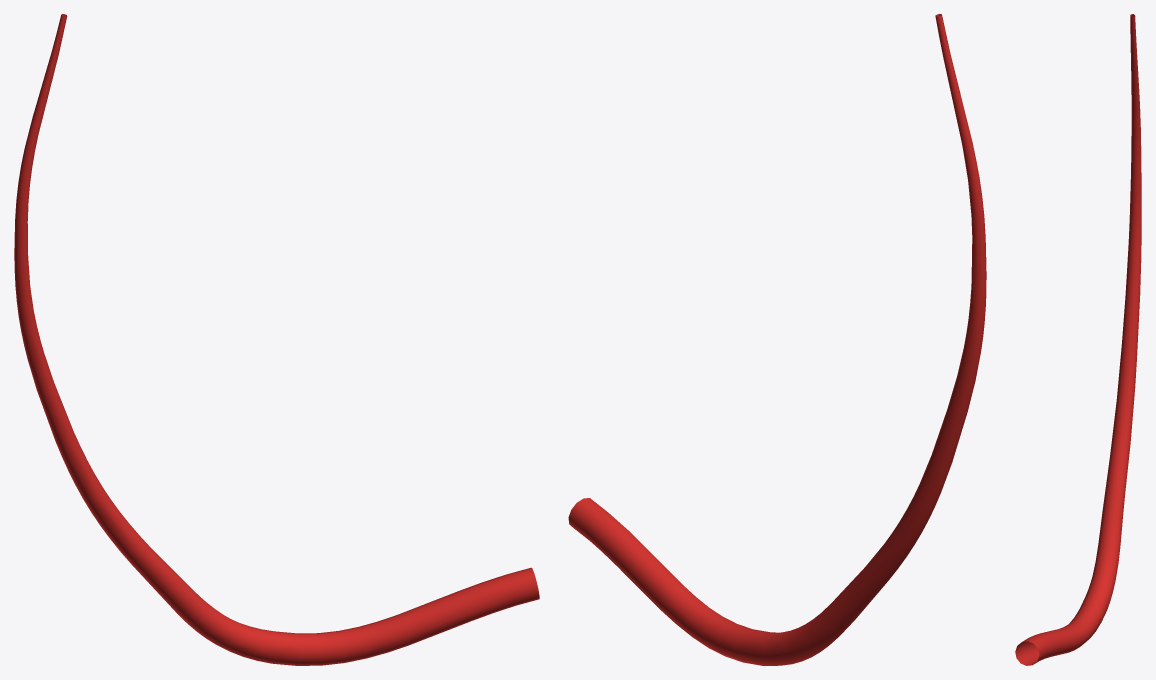
File: circulatorio-accessory-branch-of-middle-meningeal-artery-l.glb
The picture shows the model from 3 angles, left to right: view 1: azimuth 30°, elevation 25°; view 2: azimuth 150°, elevation 25°; view 3: azimuth 270°, elevation 25°; orthographic projection. The views are drawn at different scales.
Parts seen in each view (by area): view 1: Accessory branch of middle meningeal artery.l; view 2: Accessory branch of middle meningeal artery.l; view 3: Accessory branch of middle meningeal artery.l.
Boxes of the visible parts, x1=… form: Accessory branch of middle meningeal artery.l: x1=14, y1=14, x2=539, y2=665; Accessory branch of middle meningeal artery.l: x1=568, y1=14, x2=986, y2=665; Accessory branch of middle meningeal artery.l: x1=1015, y1=14, x2=1141, y2=665.
Size of the model in its own units: 0.0161 by 0.023 by 0.00493.
